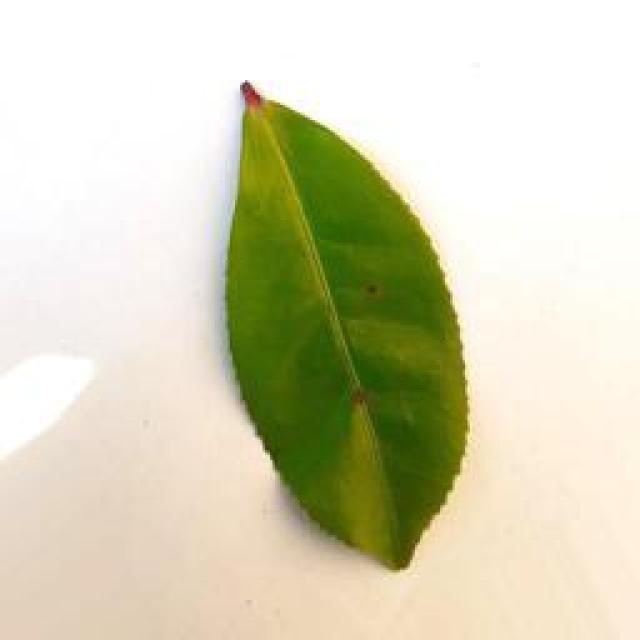Healthy: (200, 72, 488, 578)
